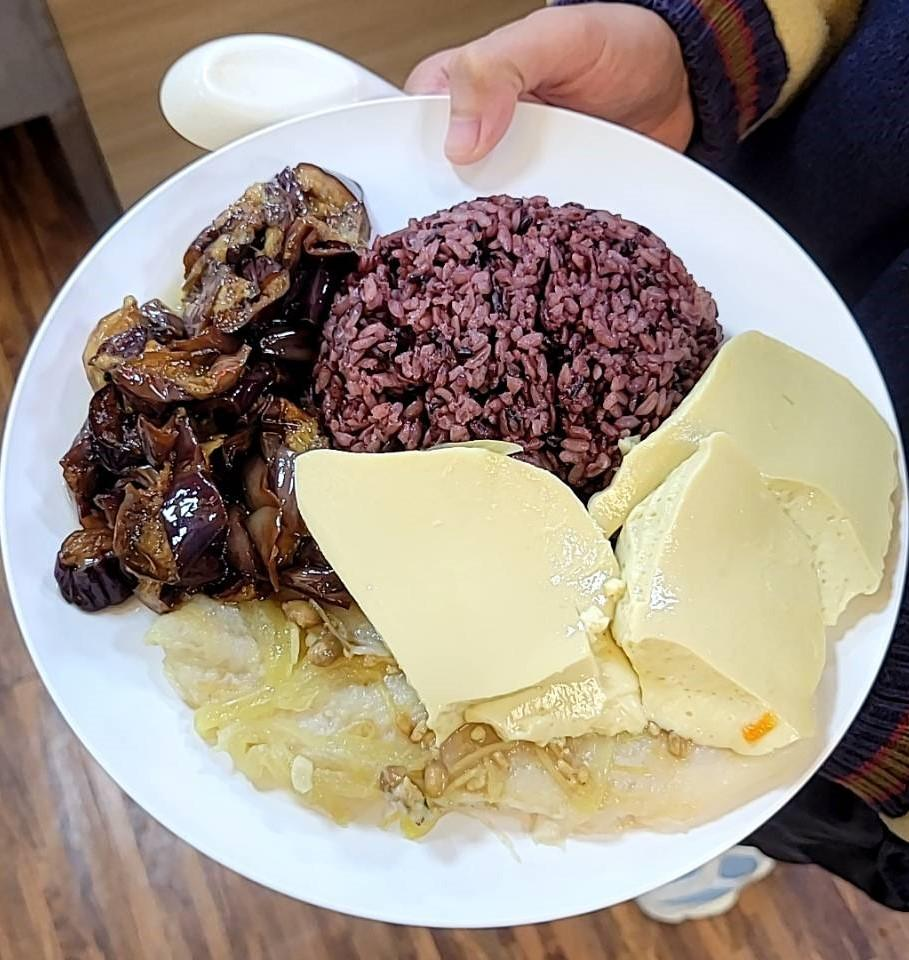big fried chicken leg: (6, 84, 909, 939)
braised fish: (307, 196, 724, 461)
braised fish fillet: (294, 333, 904, 759), (44, 160, 371, 610)
braised pork ribs: (170, 596, 814, 835)
